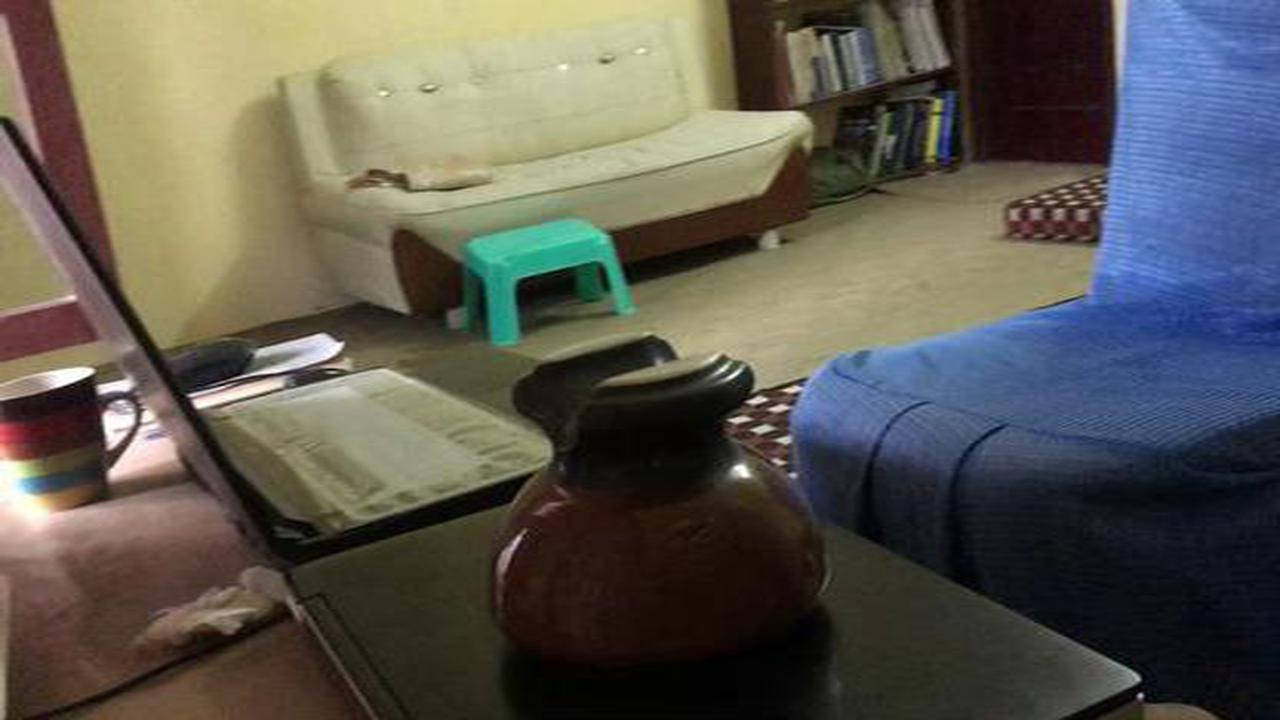insulator_pin: (465, 328, 850, 686)
